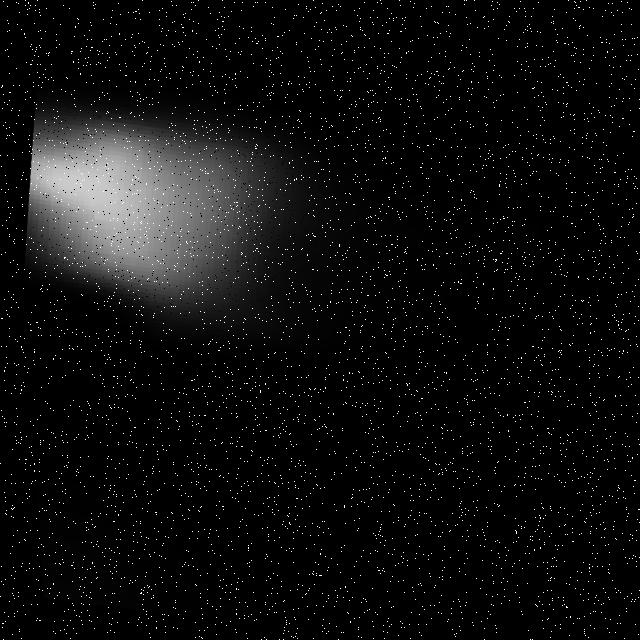person: (6, 93, 451, 394)
